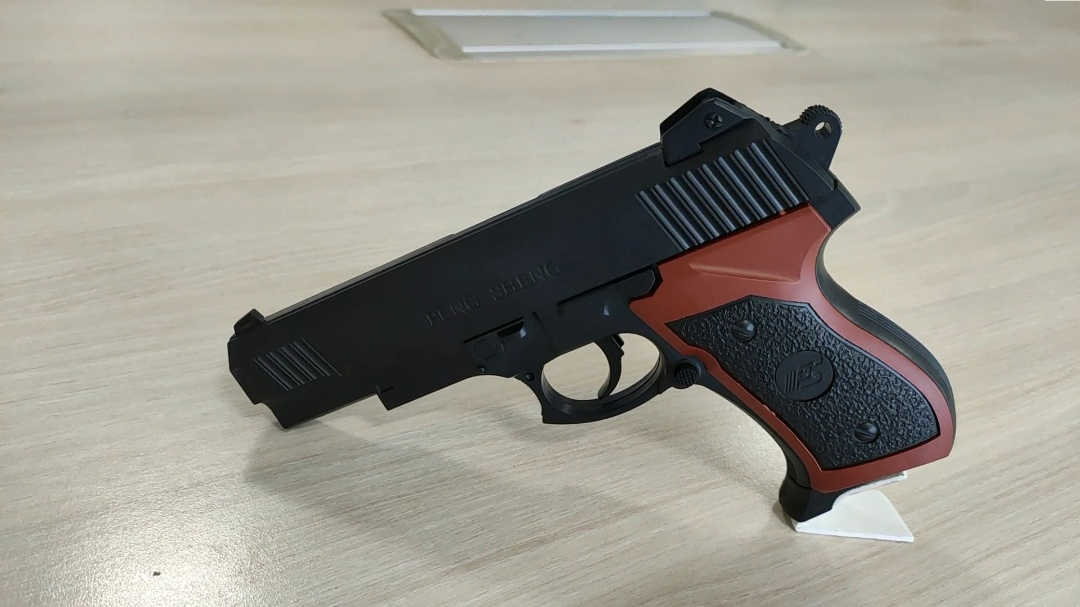gun: (551, 183, 668, 310)
